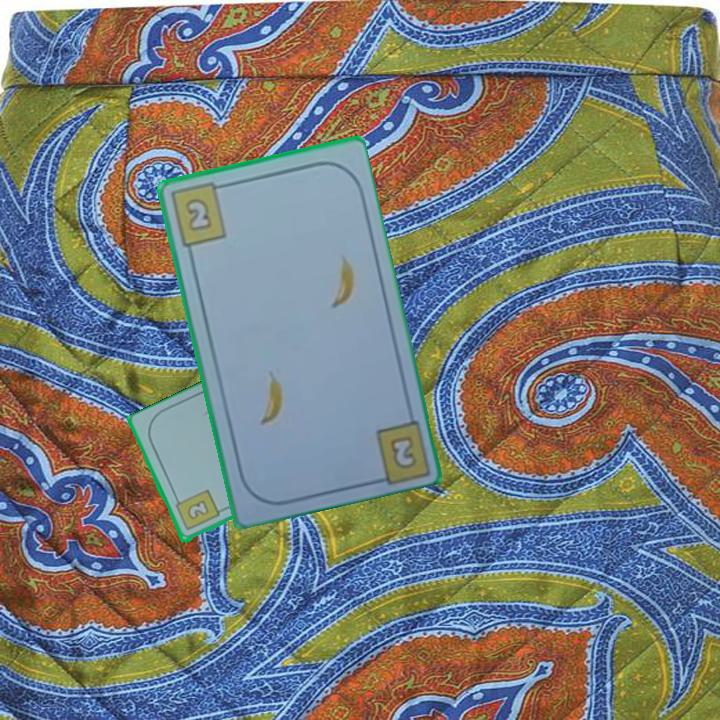2b: (167, 179, 231, 250), (171, 486, 222, 534), (386, 432, 420, 472)
